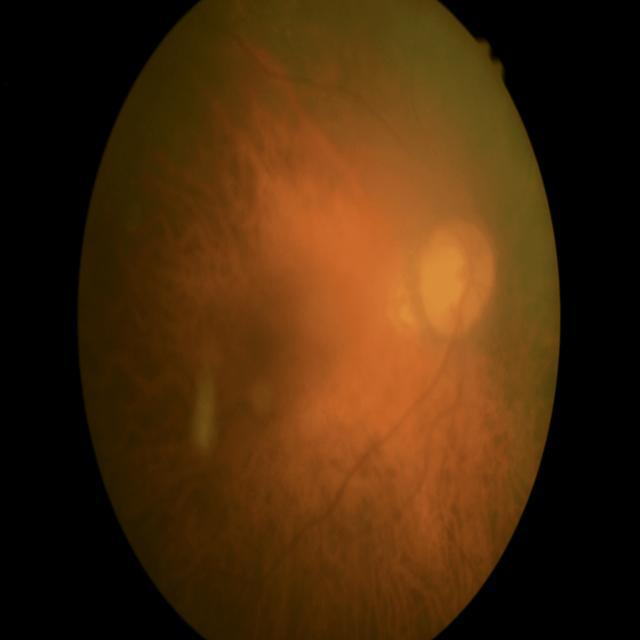cup: (431, 242, 478, 317)
disk: (418, 222, 495, 331)
